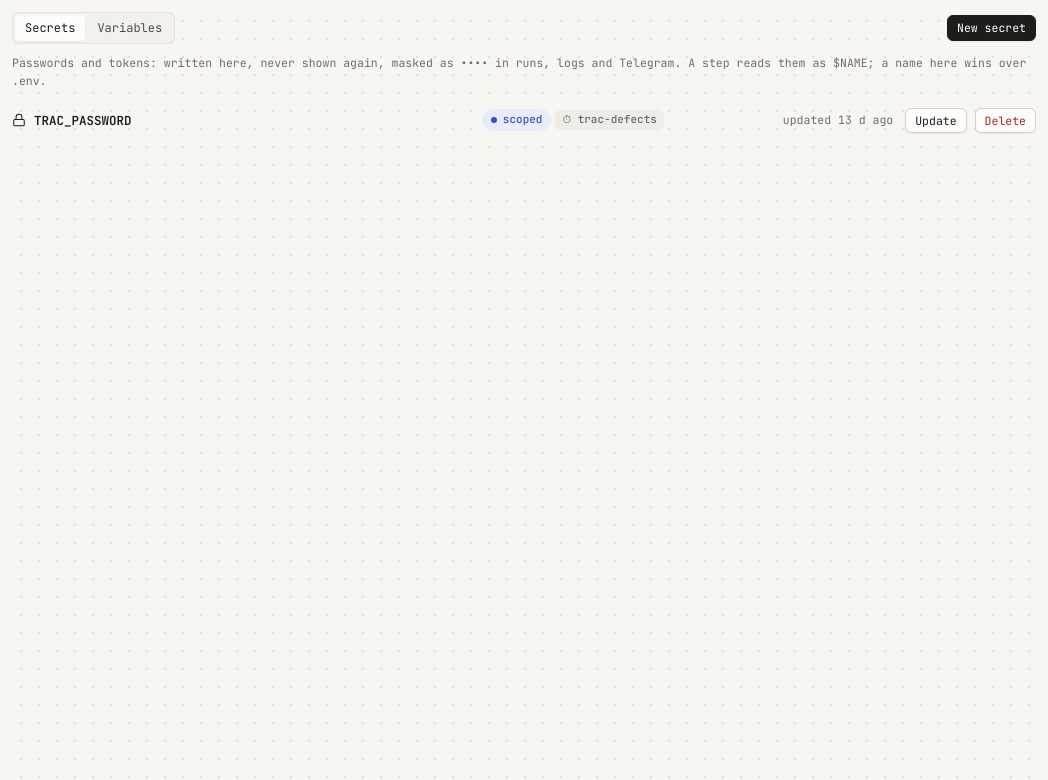
it: SecretsSection › lists secrets without a value and variables with theirs
This screenshot has width=1048, height=780.
Expected: the text "TRAC_PASSWORD" is shown, left=34, top=111, right=132, bottom=130
Expected: the text "TRAC_URL" is not shown
Click the tab "Variables". click: x=130, y=28
box: left=87, top=15, right=172, bottom=41
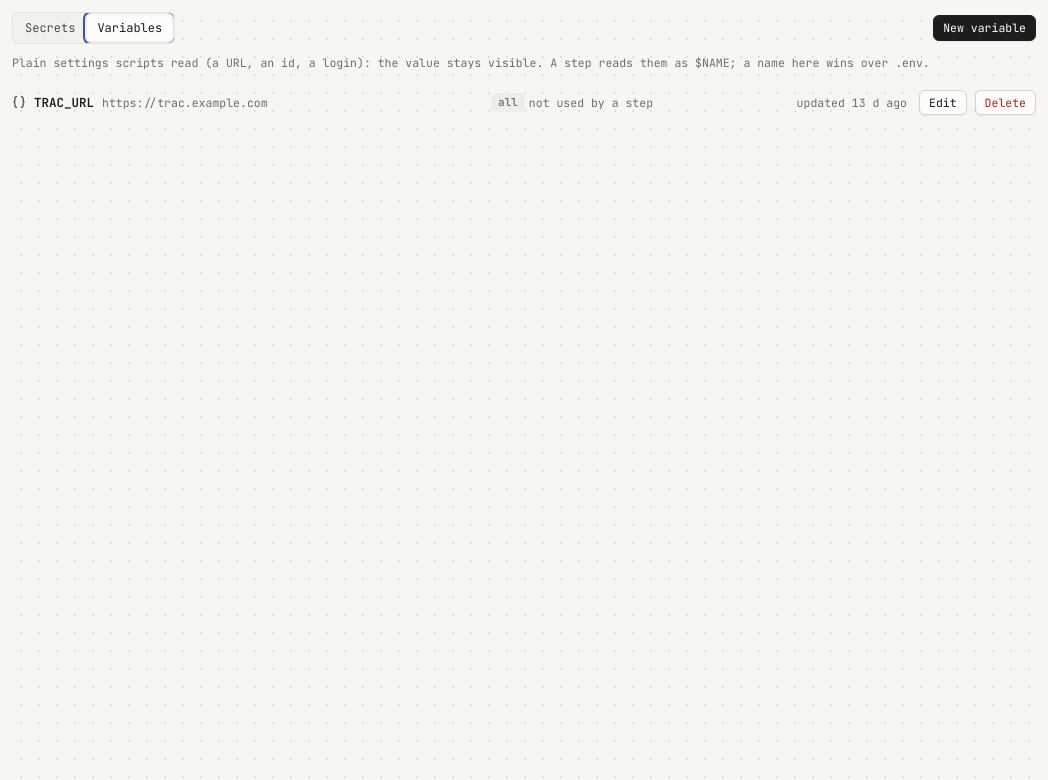
Expected: the text "https://trac.example.com" is shown, left=102, top=94, right=268, bottom=111
